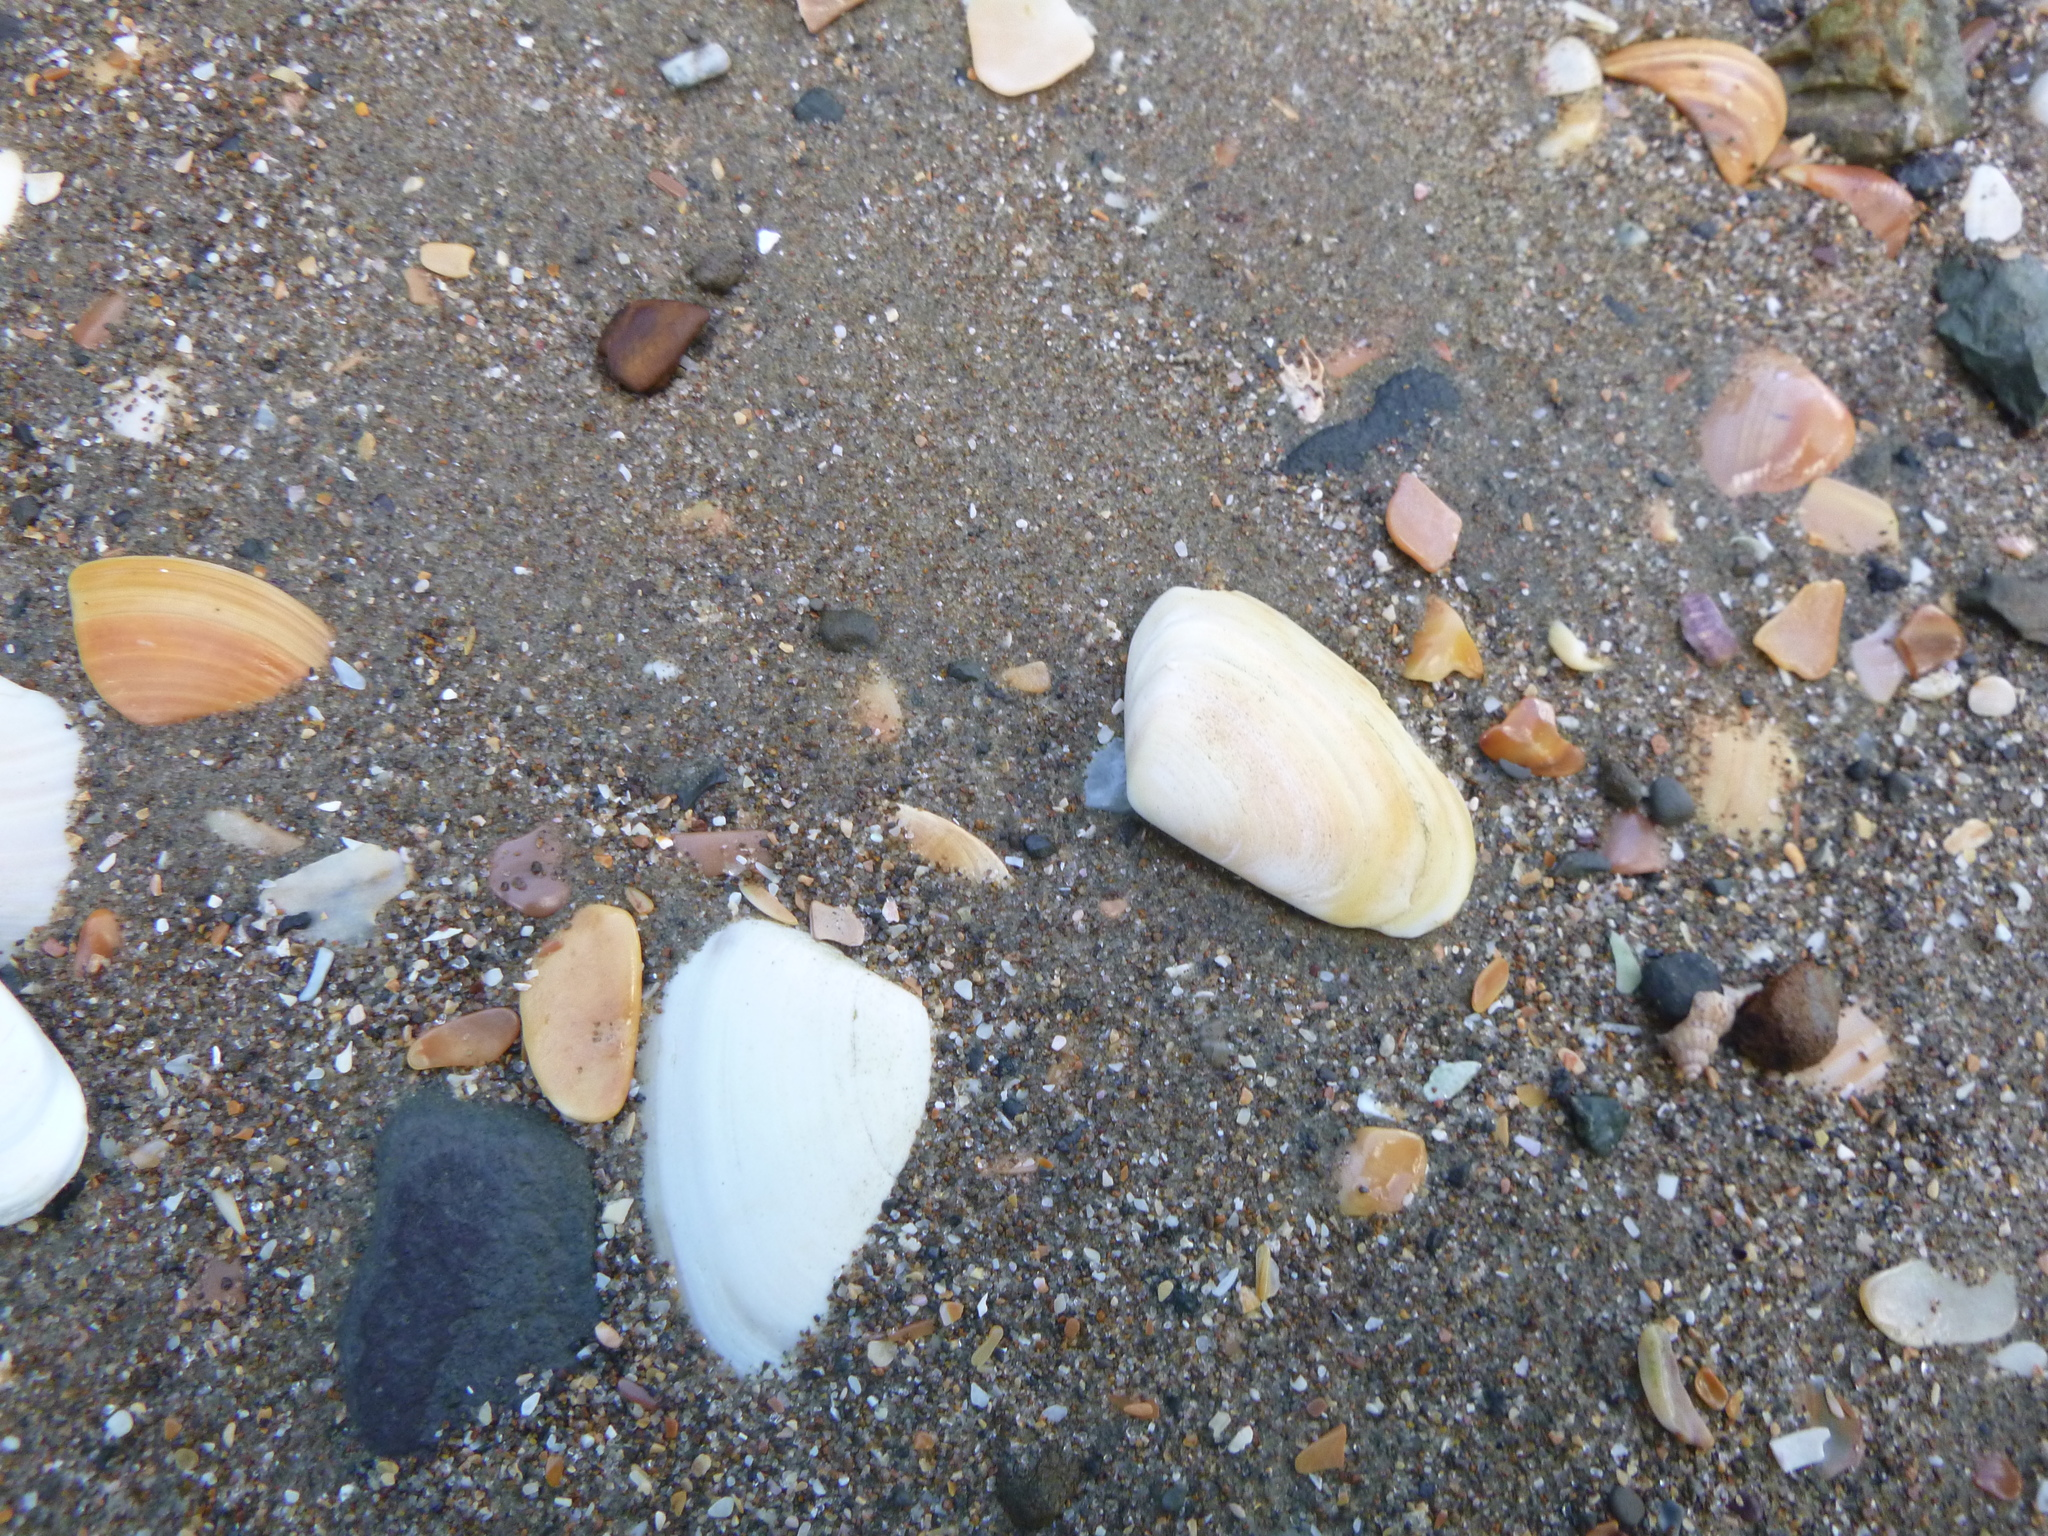tuatua: (1113, 571, 1488, 947)
